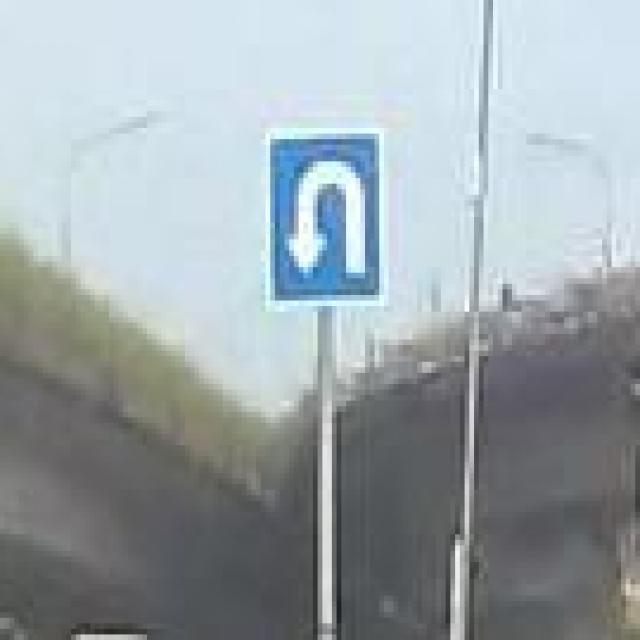U-turn: (262, 128, 386, 309)
